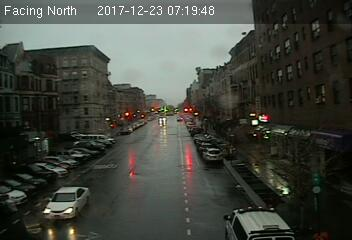car: (42, 185, 90, 221), (202, 147, 225, 165)
police: (219, 203, 298, 240)
